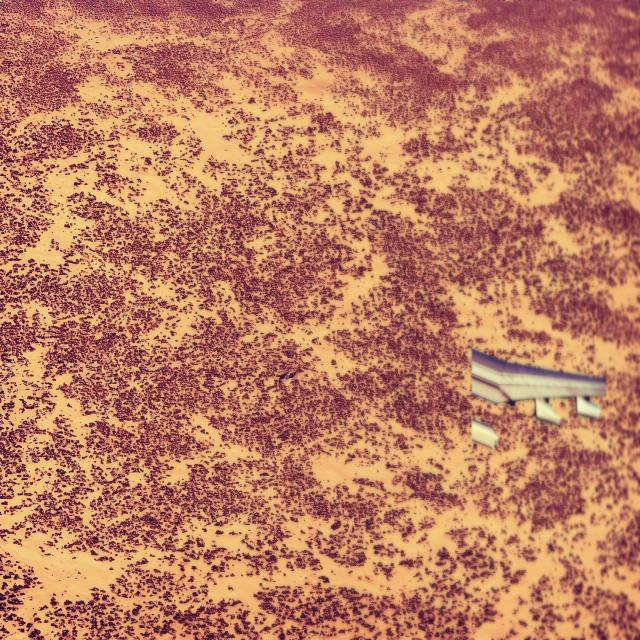airplane: (470, 346, 607, 426)
